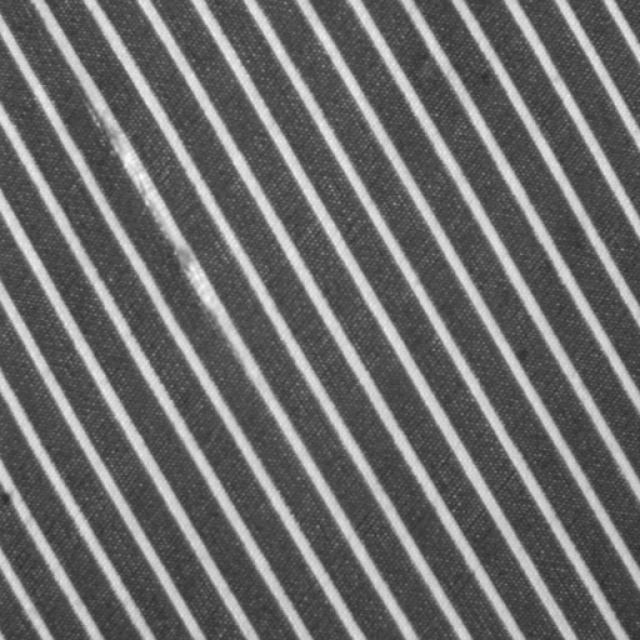Thread-Defect: (90, 95, 244, 359)
